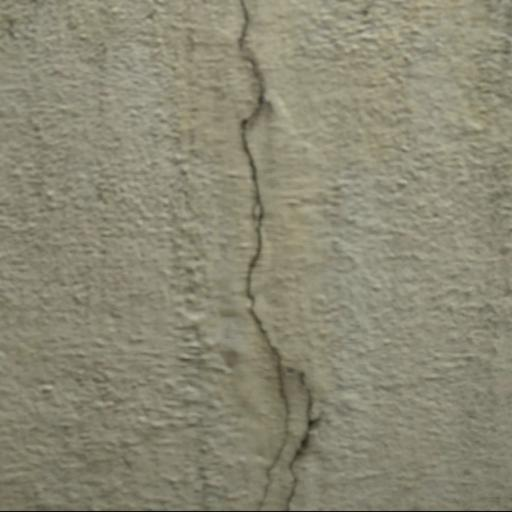minor_crack: (209, 0, 333, 512)
